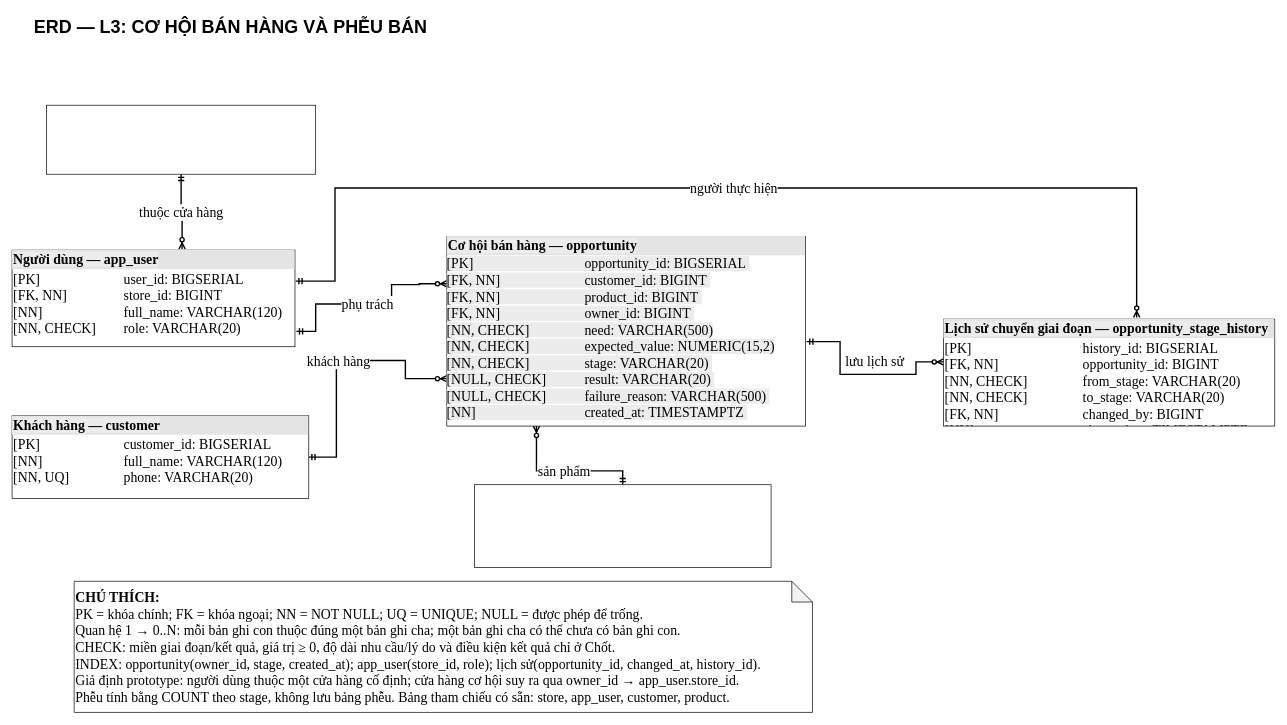
The diagram is 1287 pixels wide and 725 high, and some of its shapes have lost their labels. Here are the shapes that lost their labels. From the top down, the centre of each, then its label:
At pixel 181 139: "Cửa hàng — store [PK] store_id: BIGSERIAL [NN] store_name: VARCHAR(120)".
At pixel 622 526: "Sản phẩm — product [PK] product_id: BIGSERIAL [NN] product_name: VARCHAR(150)".
